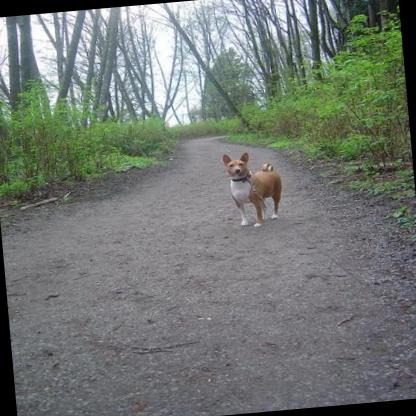basenji: (222, 146, 286, 226)
